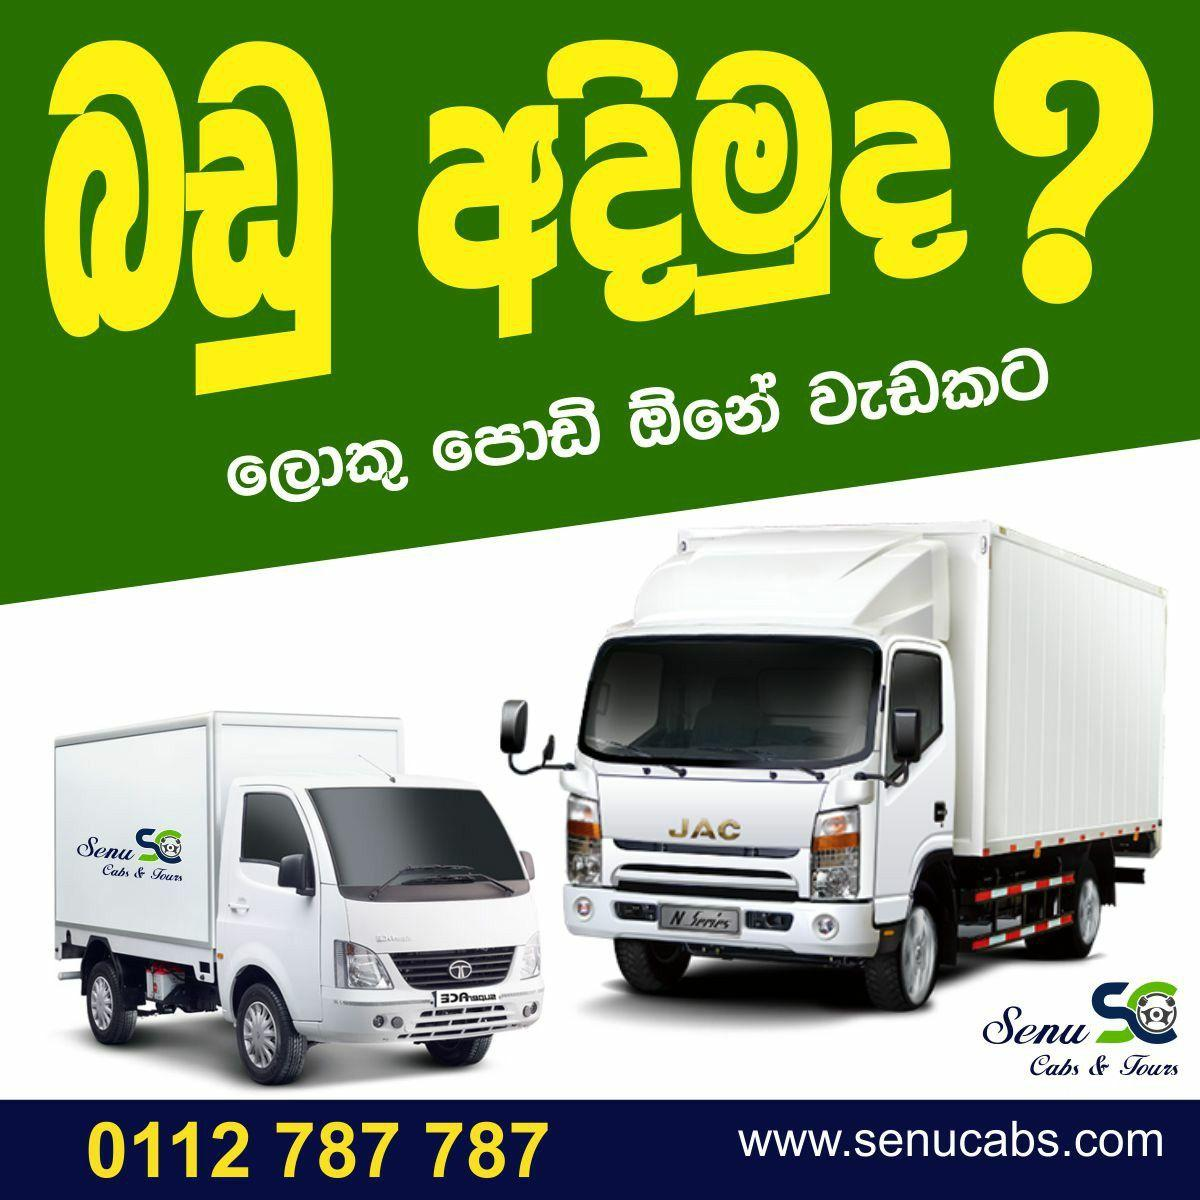truck: (498, 516, 1164, 1011), (52, 709, 545, 1087)
